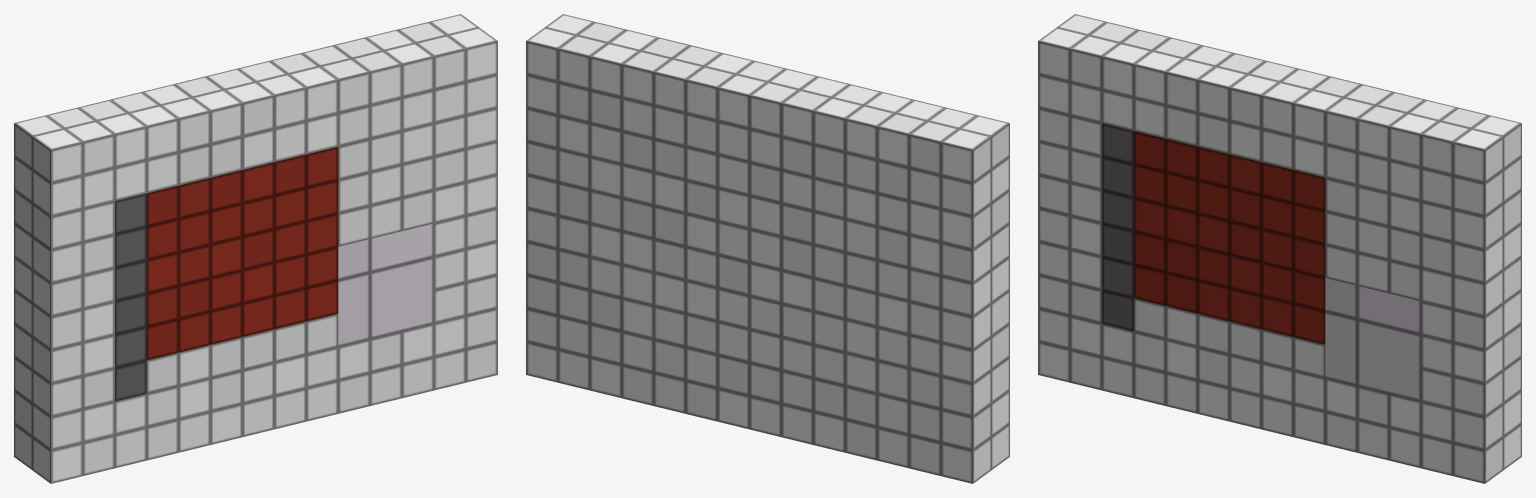
File: wall_picture_framed_b.glb
3 views of the same model, side by side, from view 1: azimuth 30°, elevation 25°; view 2: azimuth 150°, elevation 25°; view 3: azimuth 330°, elevation 25° (orthographic).
Visible parts, largest first — view 1: wall_picture_framed_b; view 2: wall_picture_framed_b; view 3: wall_picture_framed_b.
Part boxes in pixels (<box>): wall_picture_framed_b: <box>14,14,497,483</box>; wall_picture_framed_b: <box>526,14,1009,483</box>; wall_picture_framed_b: <box>1038,14,1521,483</box>.
Bounding box in the file's own units: 0.7 × 0.5 × 0.1.
5 materials, 5 textured.
